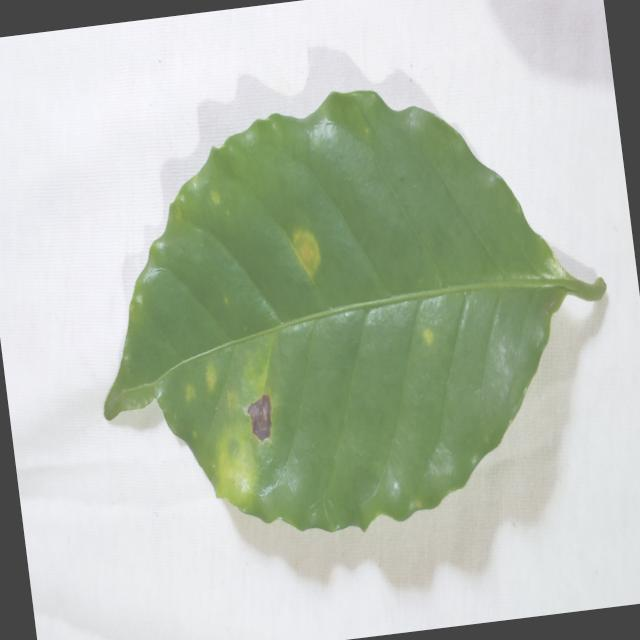KaratDaunKopi: (292, 229, 320, 277), (206, 363, 216, 390), (423, 328, 433, 344)
PengorokDaunKopi: (247, 394, 271, 440)
